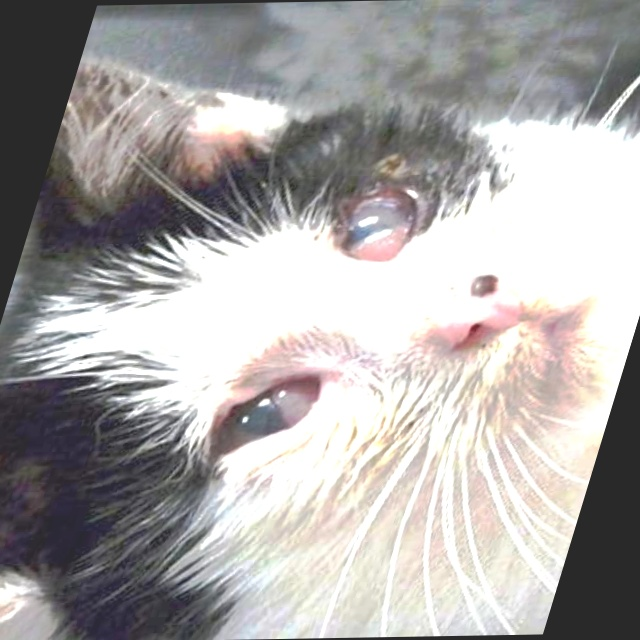eye_infection: (193, 366, 332, 465), (325, 171, 444, 268)
